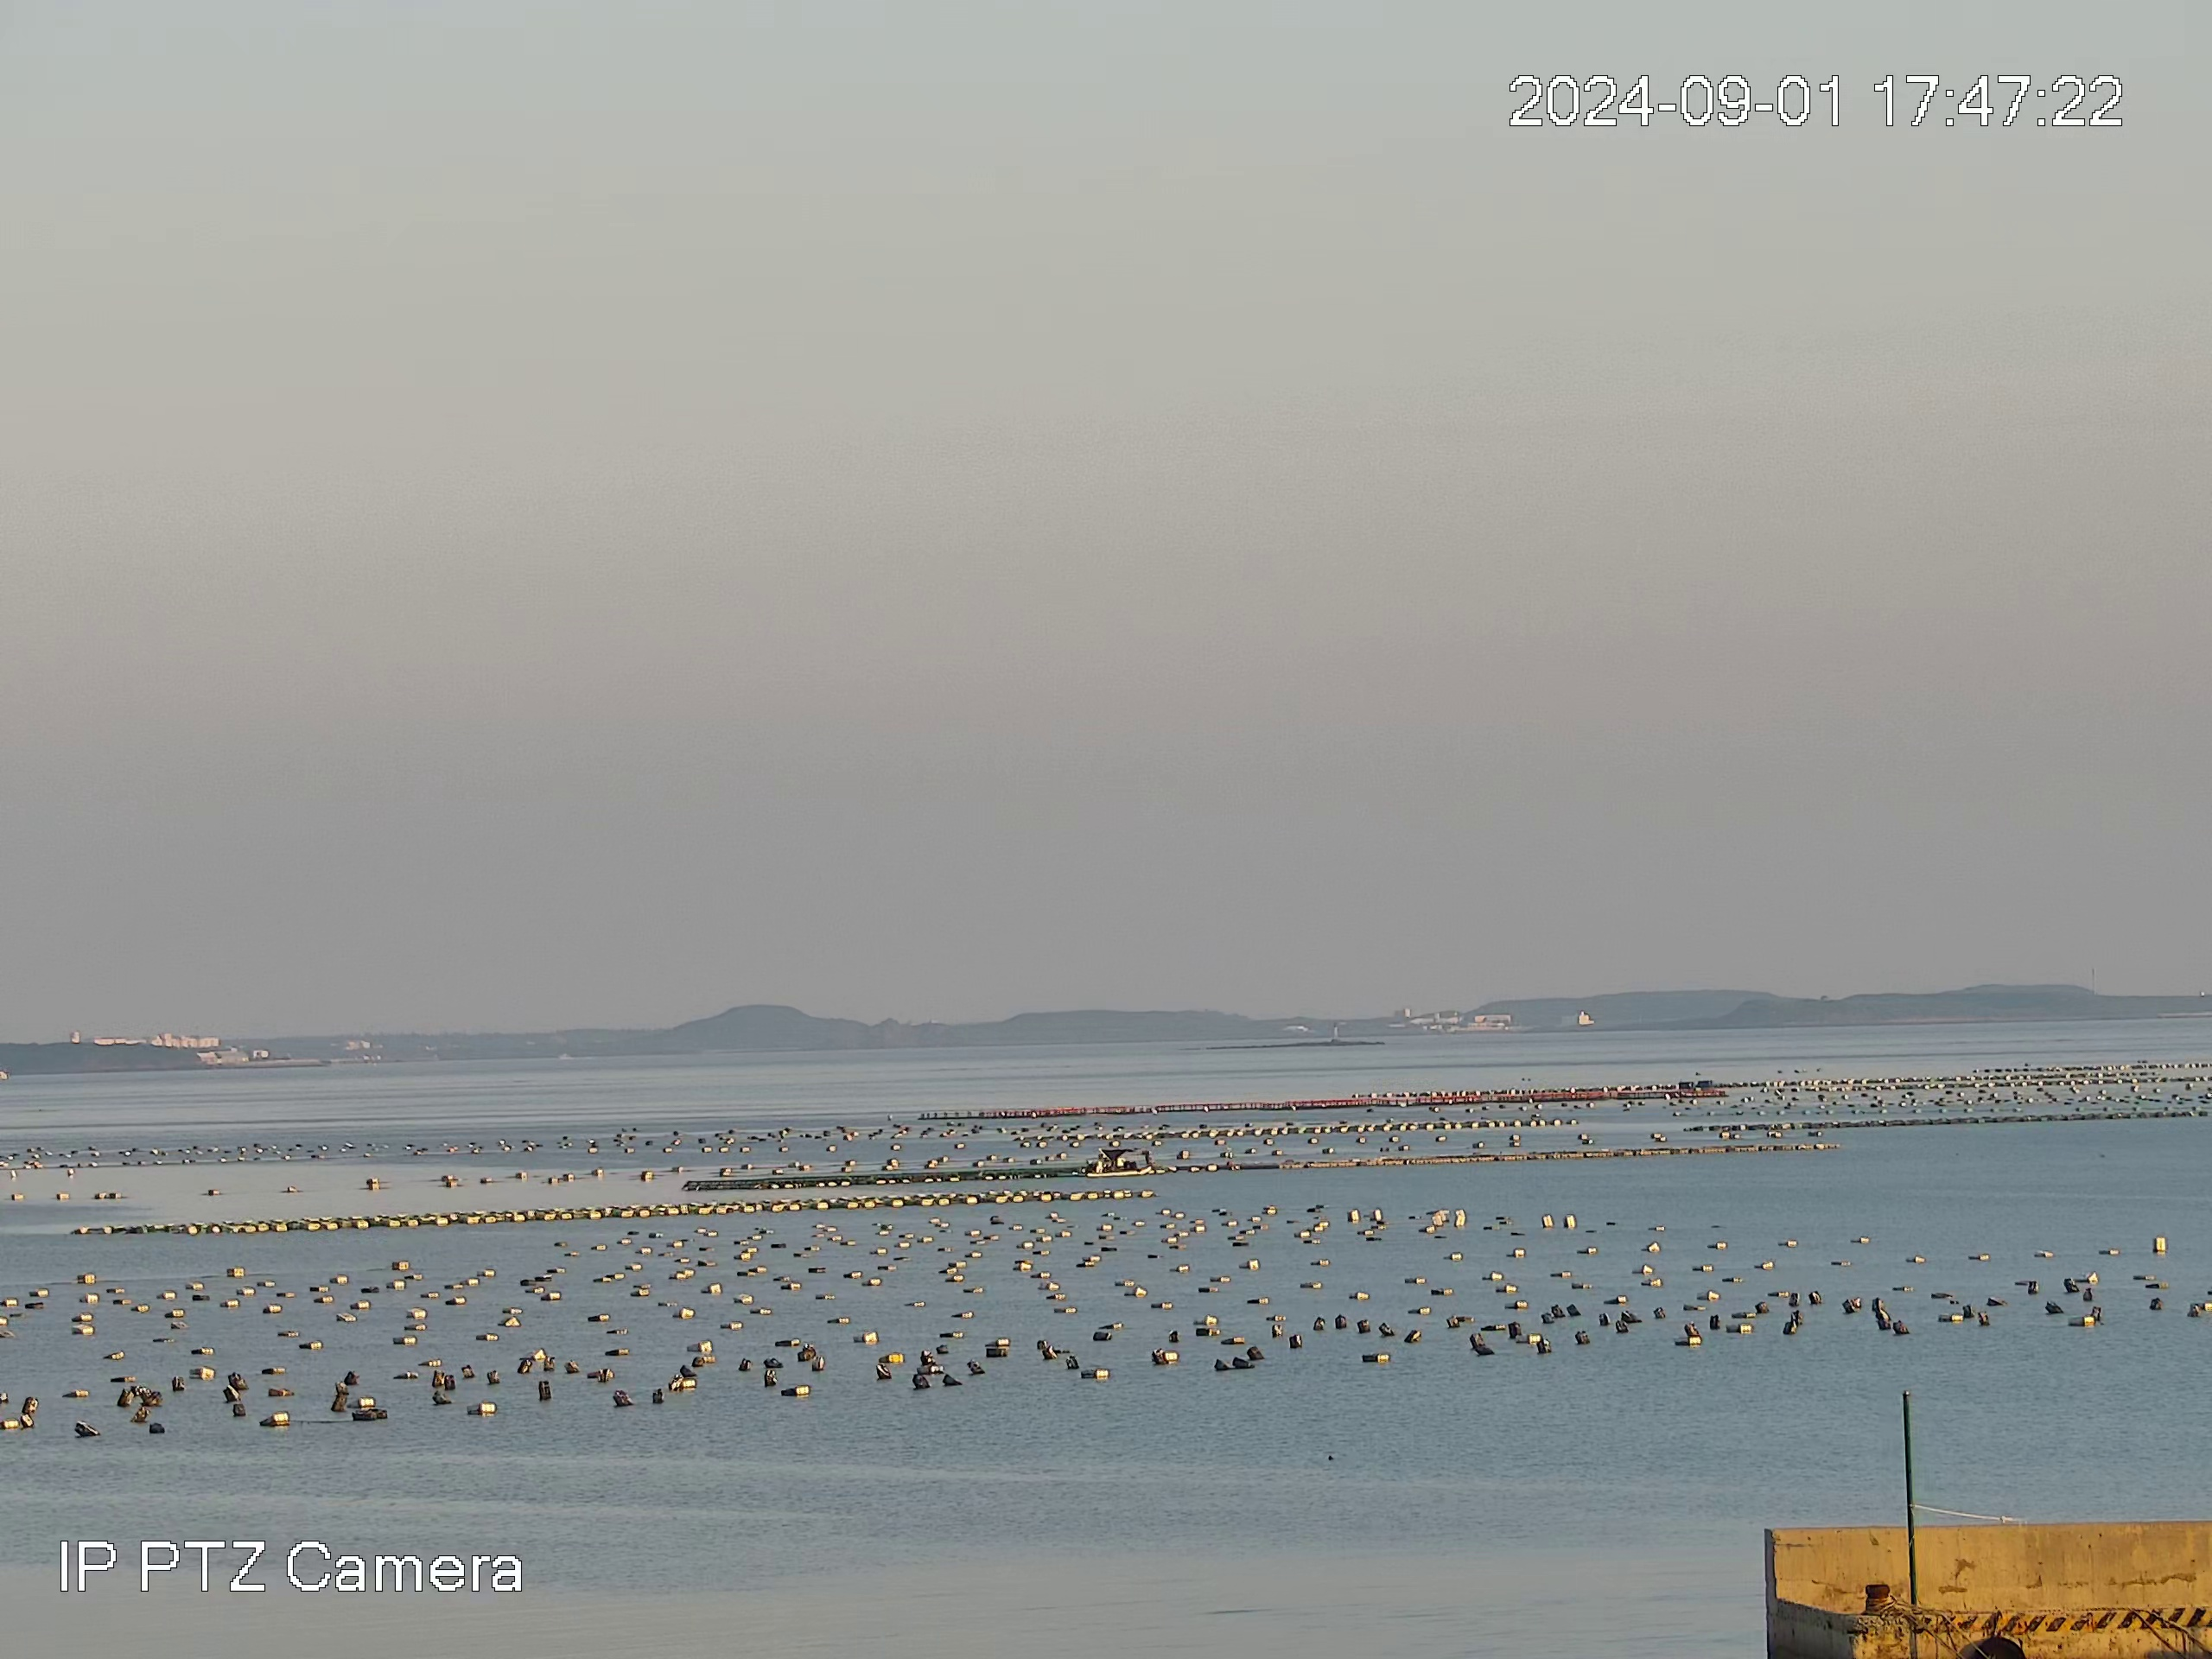boat: (1089, 1143, 1151, 1176)
